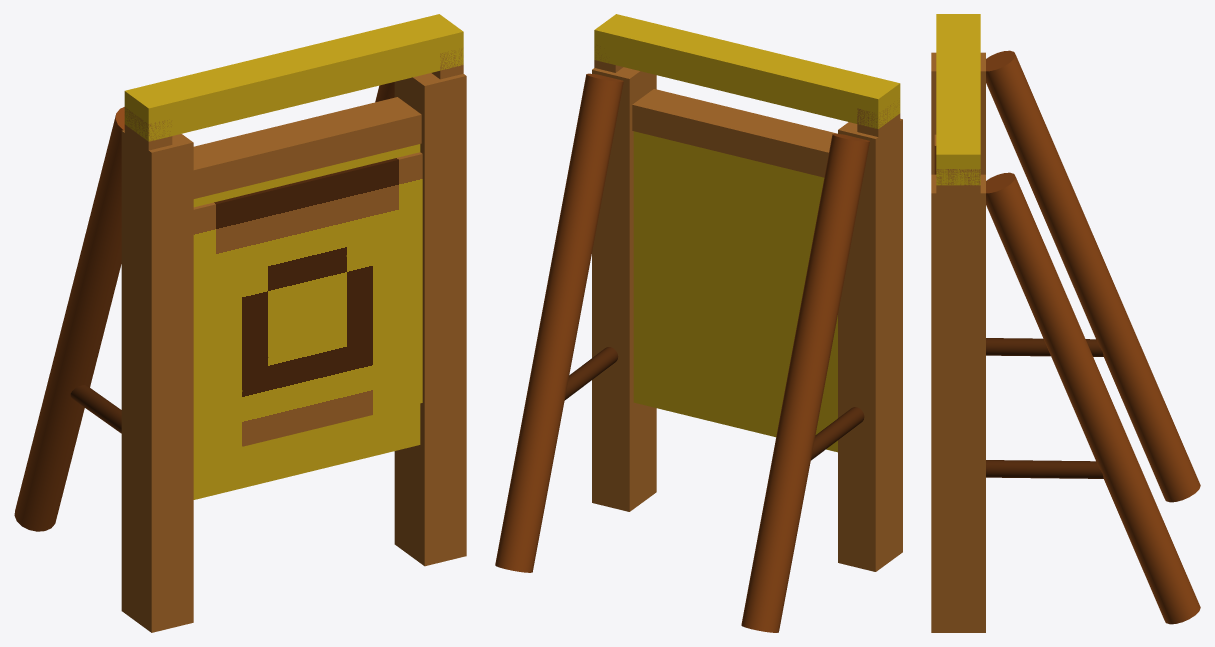
Rendered from CMU3DUtilityCMWetSignCloud.glb.
The picture shows the model from 3 angles, left to right: view 1: azimuth 30°, elevation 25°; view 2: azimuth 150°, elevation 25°; view 3: azimuth 270°, elevation 25°; orthographic projection. The views are drawn at different scales.
Parts seen in each view (by area): view 1: original warning symbol and label, front sign leg -0.163, front sign leg 0.163, upper handle crossbar, splayed rear support -0.163, handle lower horizontal edge, front yellow sign panel, handle side cheek -0.174, hinged side restraint -0.163; view 2: front yellow sign panel, front sign leg -0.163, splayed rear support -0.163, splayed rear support 0.163, front sign leg 0.163, upper handle crossbar, handle lower horizontal edge, handle side cheek -0.174, hinged side restraint -0.163, hinged side restraint 0.163; view 3: front sign leg 0.163, splayed rear support -0.163, splayed rear support 0.163, upper handle crossbar, hinged side restraint 0.163, front sign leg -0.163, hinged side restraint -0.163, handle side cheek 0.174.
Boxes of the visible parts, x1,y1,x2,y2 form: original warning symbol and label: (193,152,422,458); front sign leg -0.163: (121,130,193,632); front sign leg 0.163: (394,73,466,566); upper handle crossbar: (124,14,463,141); splayed rear support -0.163: (14,107,124,531); handle lower horizontal edge: (193,97,421,198); front yellow sign panel: (193,144,420,499); handle side cheek -0.174: (124,107,172,191); hinged side restraint -0.163: (70,385,121,433); front yellow sign panel: (633,131,837,452); front sign leg -0.163: (838,118,902,571); splayed rear support -0.163: (741,133,869,632); splayed rear support 0.163: (495,73,623,572); front sign leg 0.163: (592,67,656,511); upper handle crossbar: (594,14,900,128); handle lower horizontal edge: (632,89,837,177); handle side cheek -0.174: (857,103,900,174); hinged side restraint -0.163: (811,407,864,460); hinged side restraint 0.163: (564,347,618,400); front sign leg 0.163: (931,174,985,632); splayed rear support -0.163: (986,50,1200,502); splayed rear support 0.163: (986,172,1200,624); upper handle crossbar: (936,14,980,185); hinged side restraint 0.163: (986,460,1103,478); front sign leg -0.163: (931,52,985,174); hinged side restraint -0.163: (986,338,1103,356); handle side cheek 0.174: (936,169,980,231).
Size of the model in its own units: 0.376 by 0.596 by 0.3045.
Materials: 5 (1 with a texture image).
